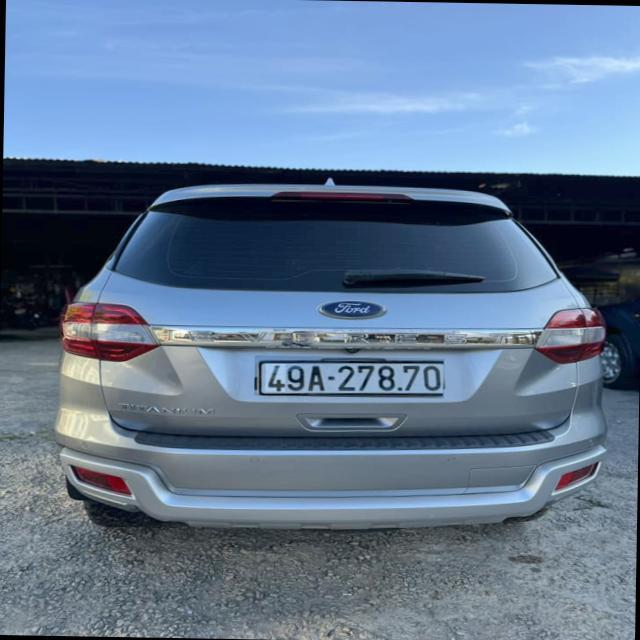car: (53, 131, 620, 540)
plate: (247, 347, 454, 406)
